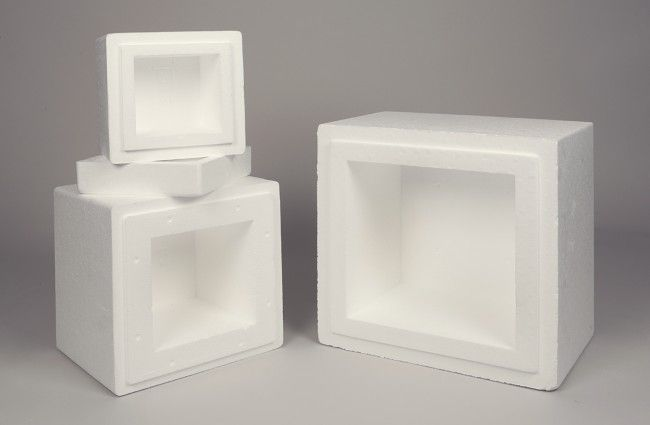Boxes: (55, 32, 282, 395), (317, 113, 594, 390)
